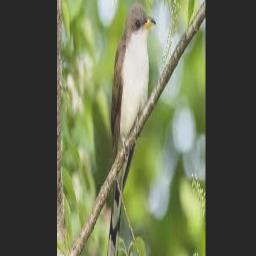Cuckoo: (106, 4, 156, 256)
